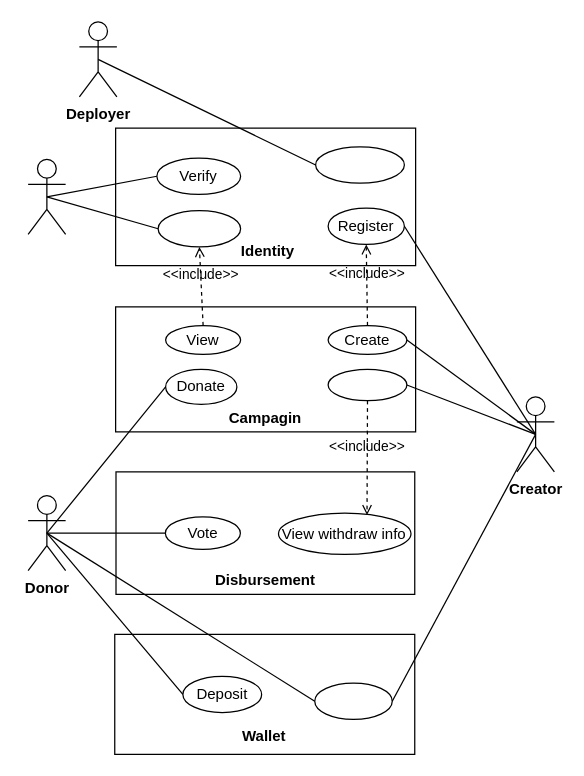
This 584x776 diagram has some shape labels left out. The centre of each missing label's shape, as x and y in pixels:
"Add Verifier" goes at point (359, 164).
"Disburse" goes at point (367, 384).
"Verifier" goes at point (46, 196).
"View Info" goes at point (199, 228).
"Withdraw" goes at point (353, 700).
